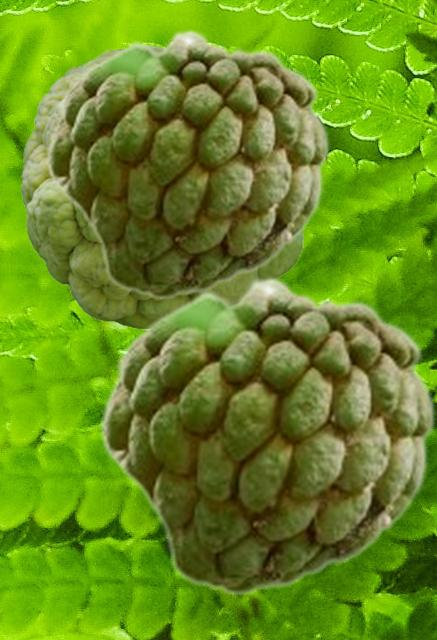atis: (97, 275, 435, 595), (21, 45, 305, 328), (43, 28, 329, 299)
